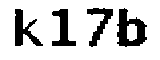1: (48, 7, 76, 49)
7: (84, 6, 113, 49)
b: (117, 6, 149, 52)
k: (12, 8, 43, 50)
